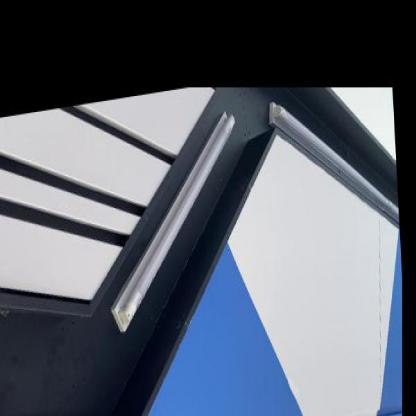light_off: (98, 96, 252, 350), (263, 71, 402, 285)
